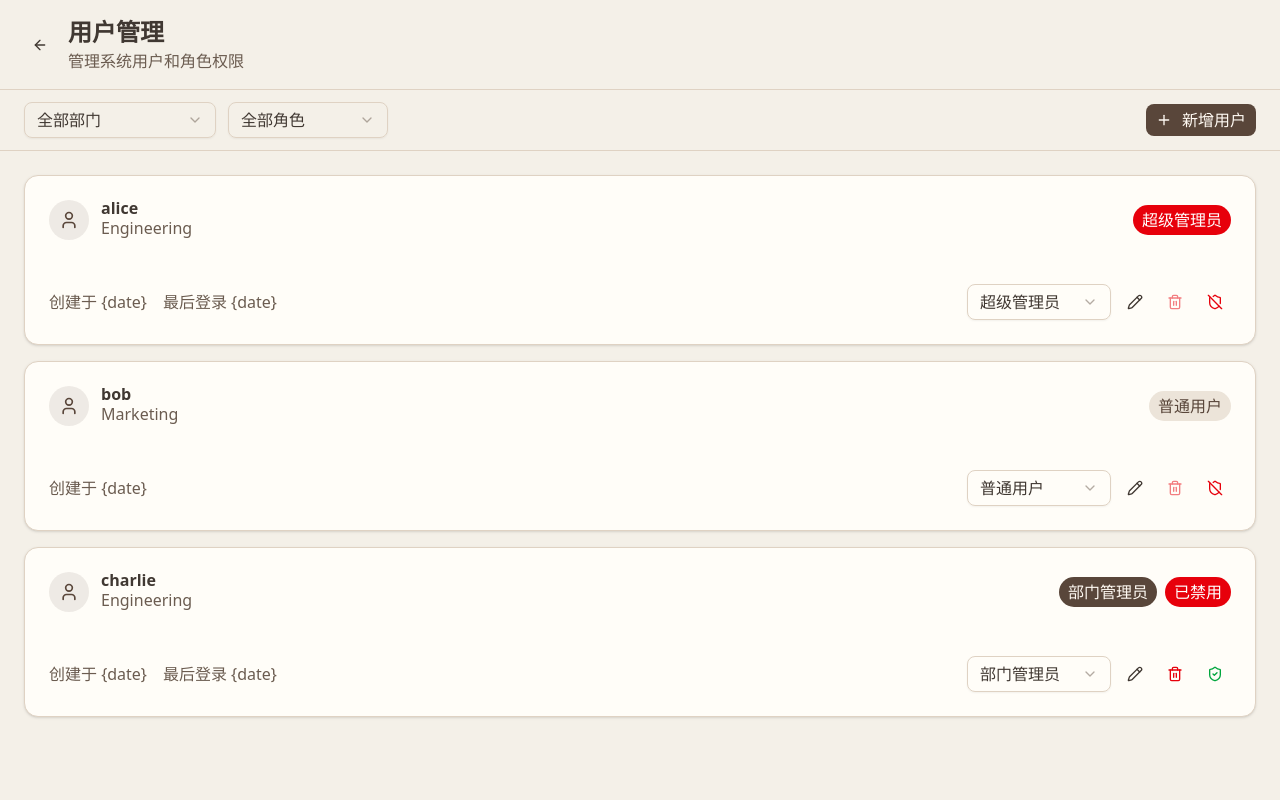
Test case: UsersPage › switches back to soft delete and closes the delete dialog
Click the button with test id "user-delete-button".
click(1175, 674)  # box [1159,658,1191,690]
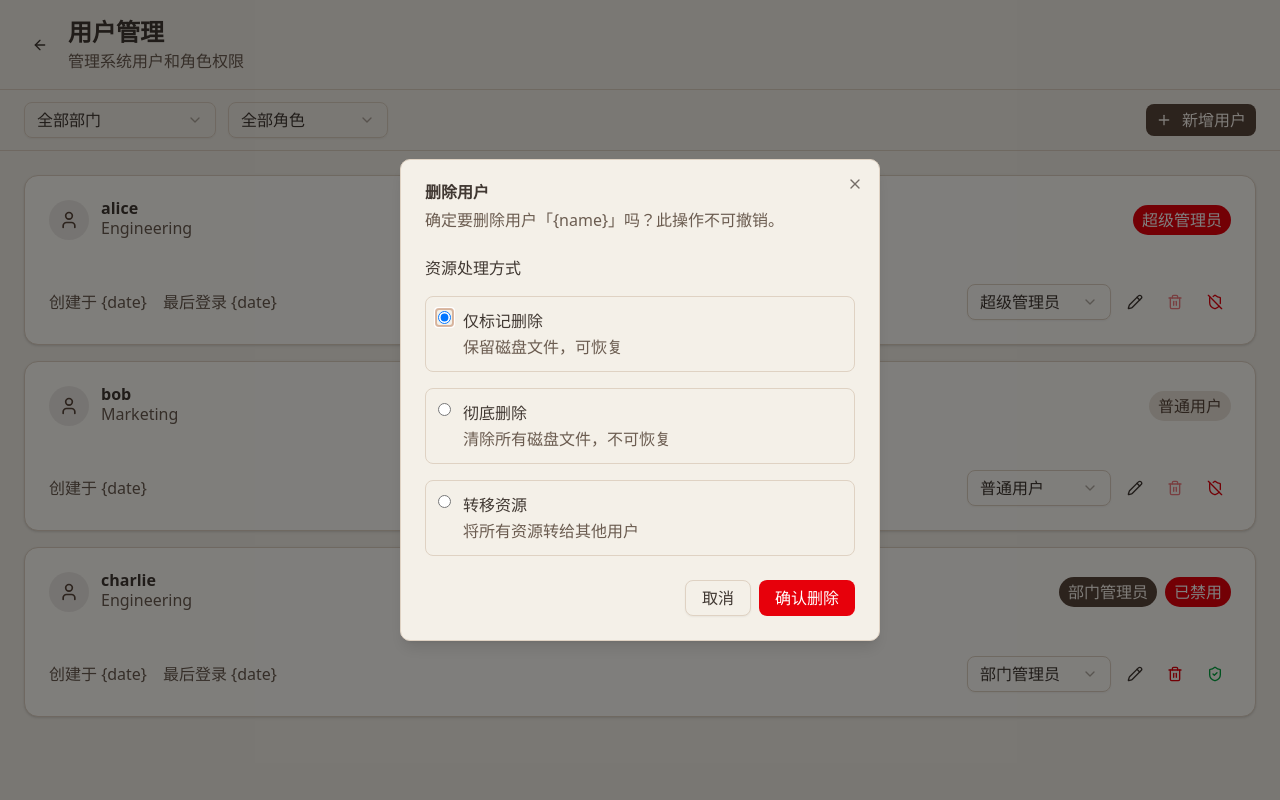
Click the text "彻底删除".
click(495, 413)  # box [463,402,527,424]
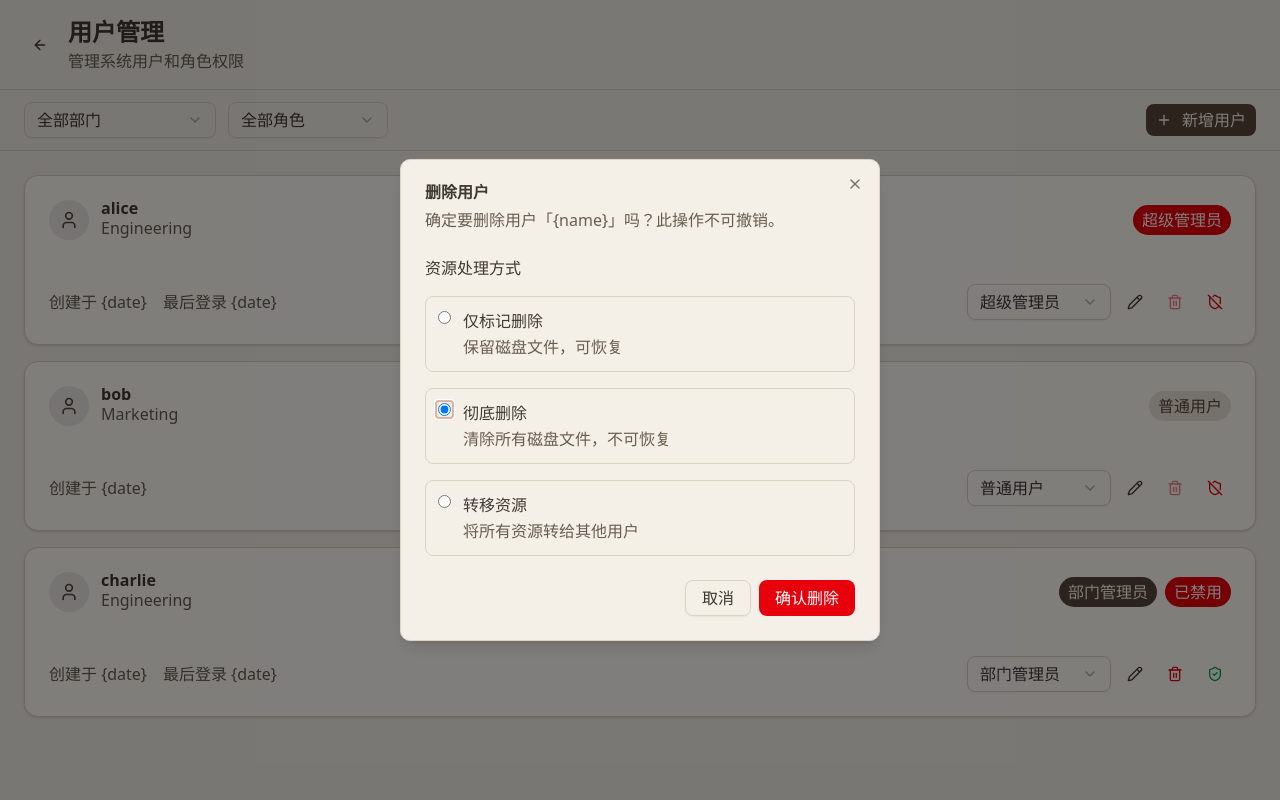
Click the text "仅标记删除".
click(503, 321)  # box [463,310,543,332]
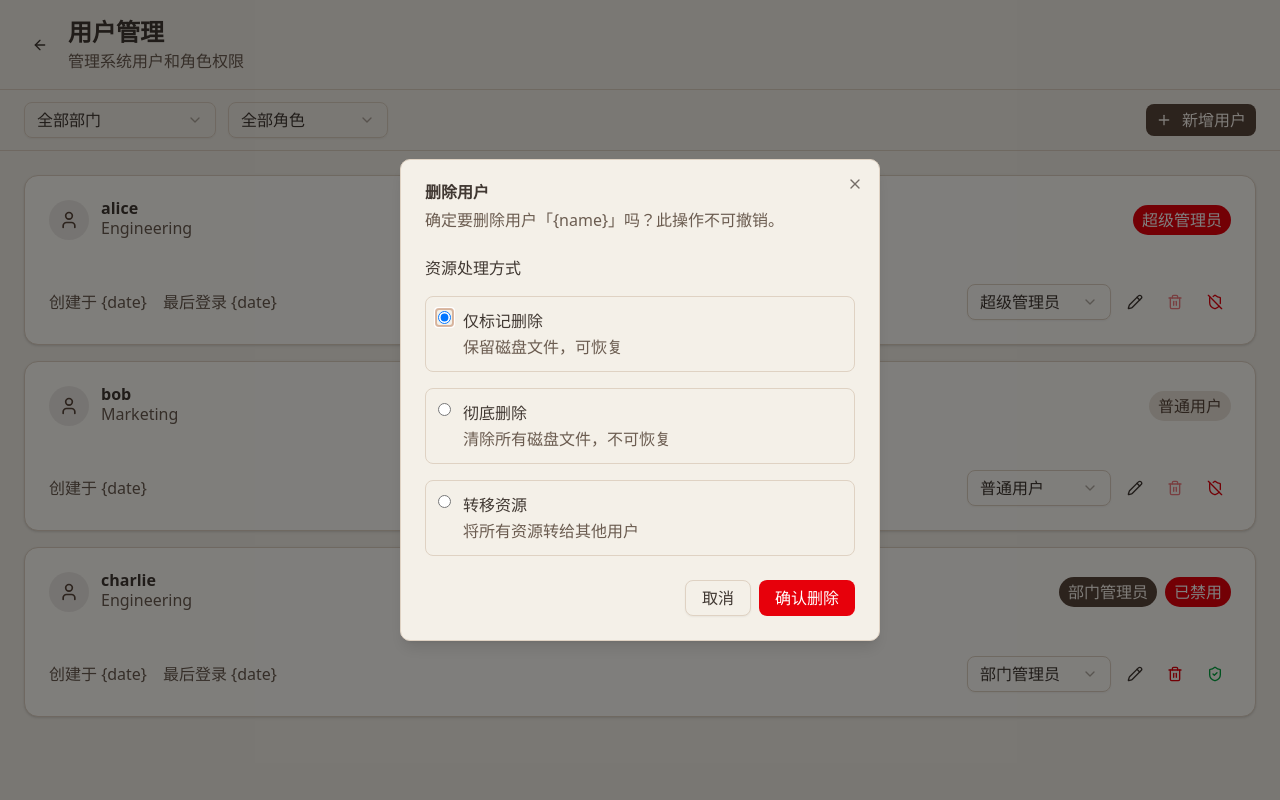
Click the button "取消".
click(718, 598)  # box [685,580,751,616]
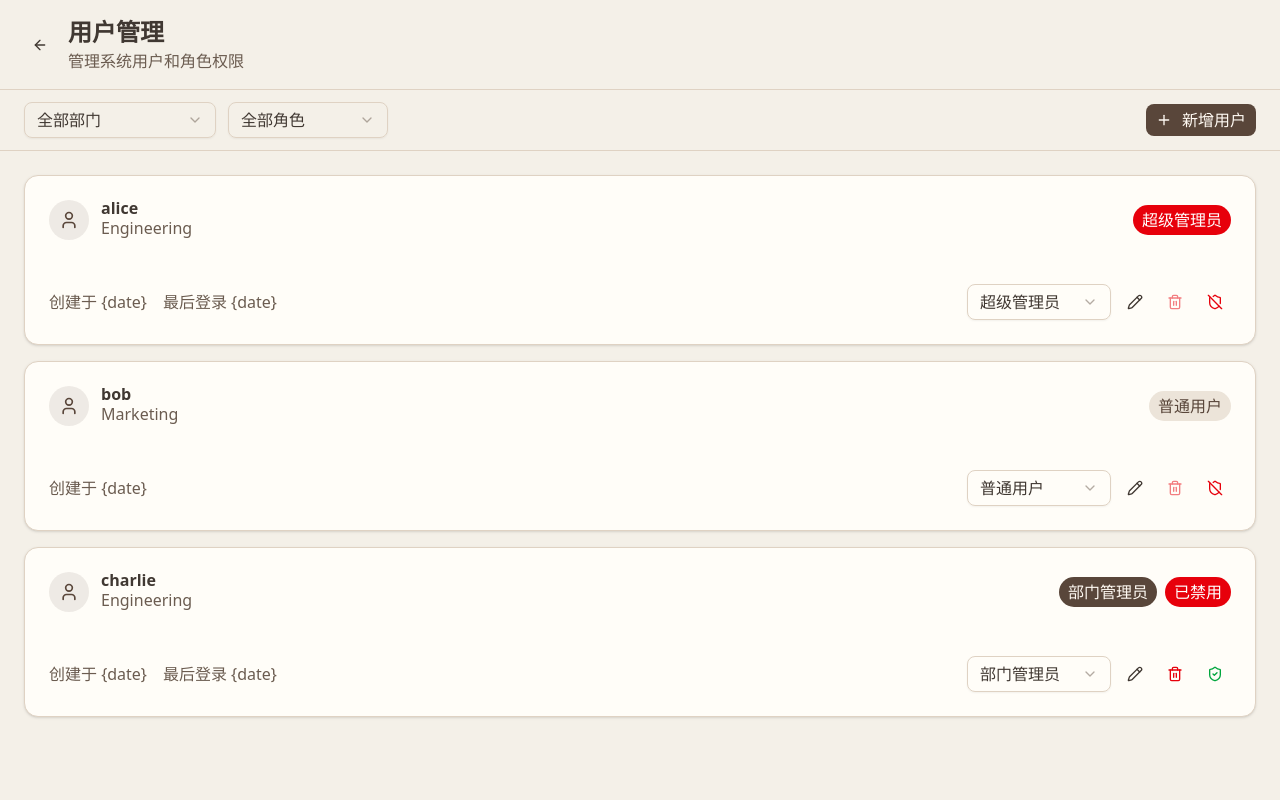
Expected: the heading "删除用户" is gone
